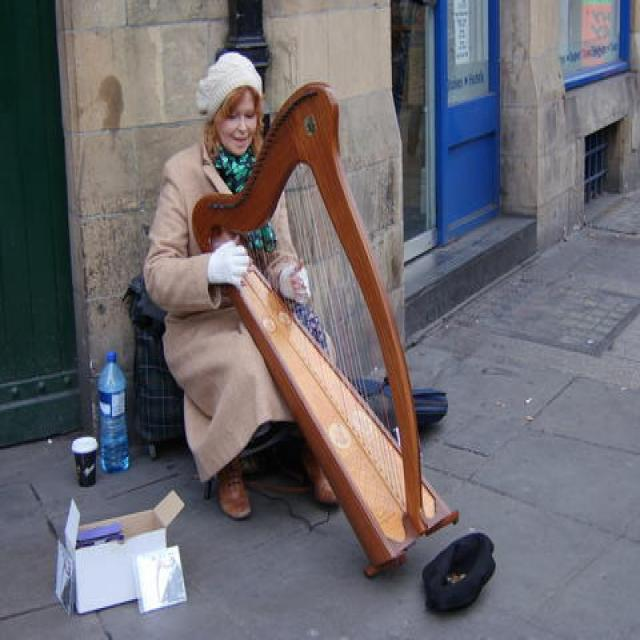harp: (189, 79, 461, 582)
